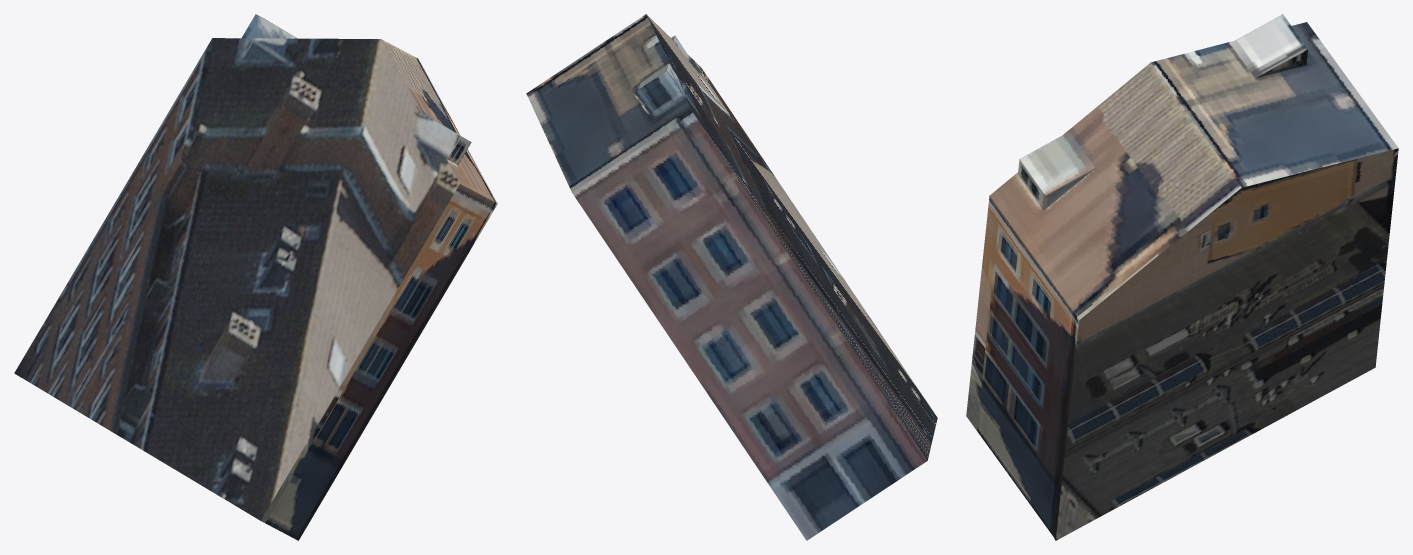
3 views of the same model, side by side, from view 1: azimuth 30°, elevation 25°; view 2: azimuth 150°, elevation 25°; view 3: azimuth 270°, elevation 25° (orthographic). The views are drawn at different scales.
Visible parts, largest first — view 1: BAG_0599100000650062 (×5); view 2: BAG_0599100000650062 (×6); view 3: BAG_0599100000650062 (×8).
Part boxes in pixels (left/top/right/bottom): BAG_0599100000650062 (×5): left=14, top=14, right=497, bottom=540; BAG_0599100000650062 (×6): left=526, top=14, right=937, bottom=540; BAG_0599100000650062 (×8): left=966, top=14, right=1398, bottom=540.
Bounding box in the file's own units: 18.6 × 19.85 × 13.99.
1 material, 1 textured.
